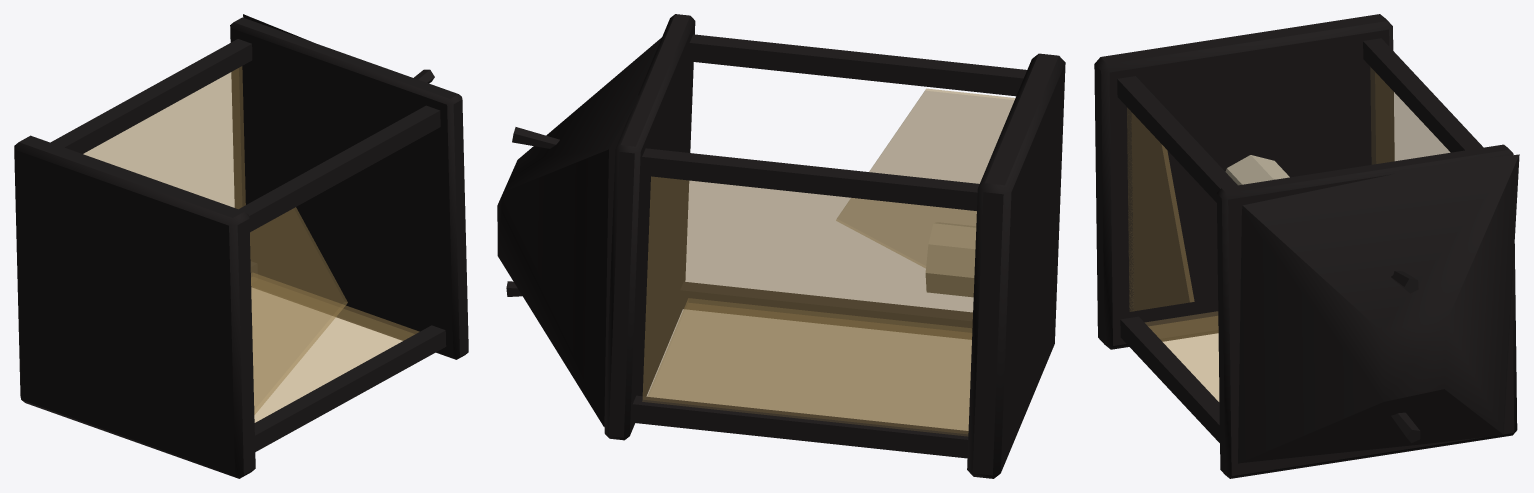
The model's file is laterne_kaputt.glb.
3 renders of one model, left to right at view 1: azimuth 30°, elevation 25°; view 2: azimuth 150°, elevation 25°; view 3: azimuth 270°, elevation 25°, orthographic. The views are drawn at different scales.
Visible parts, largest first — view 1: laterne_kaputt; view 2: laterne_kaputt; view 3: laterne_kaputt.
Part boxes in pixels (bbox=[...]): laterne_kaputt: bbox=[14, 14, 468, 478]; laterne_kaputt: bbox=[497, 14, 1065, 478]; laterne_kaputt: bbox=[1094, 14, 1519, 478].
Size of the model in its own units: 0.3395 by 0.1978 by 0.2601.
